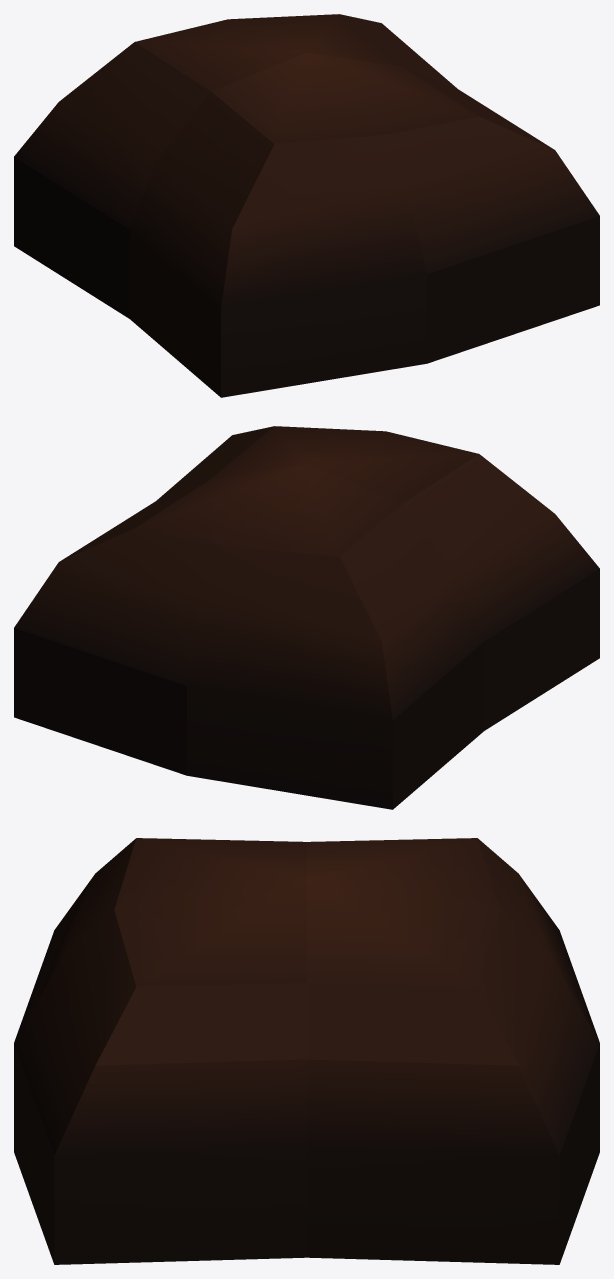
File: TinyCrop_01.fbx
3 views of the same model, one above another, from view 1: azimuth 30°, elevation 25°; view 2: azimuth 150°, elevation 25°; view 3: azimuth 270°, elevation 25° (orthographic). The views are drawn at different scales.
Visible parts, largest first — view 1: Tiny_Crop; view 2: Tiny_Crop; view 3: Tiny_Crop.
Part boxes in pixels (x1,y1,x2,y2): Tiny_Crop: (14,14,599,397); Tiny_Crop: (14,426,599,809); Tiny_Crop: (14,838,599,1264).
Bounding box in the file's own units: 1.96 × 1.1 × 2.15.
